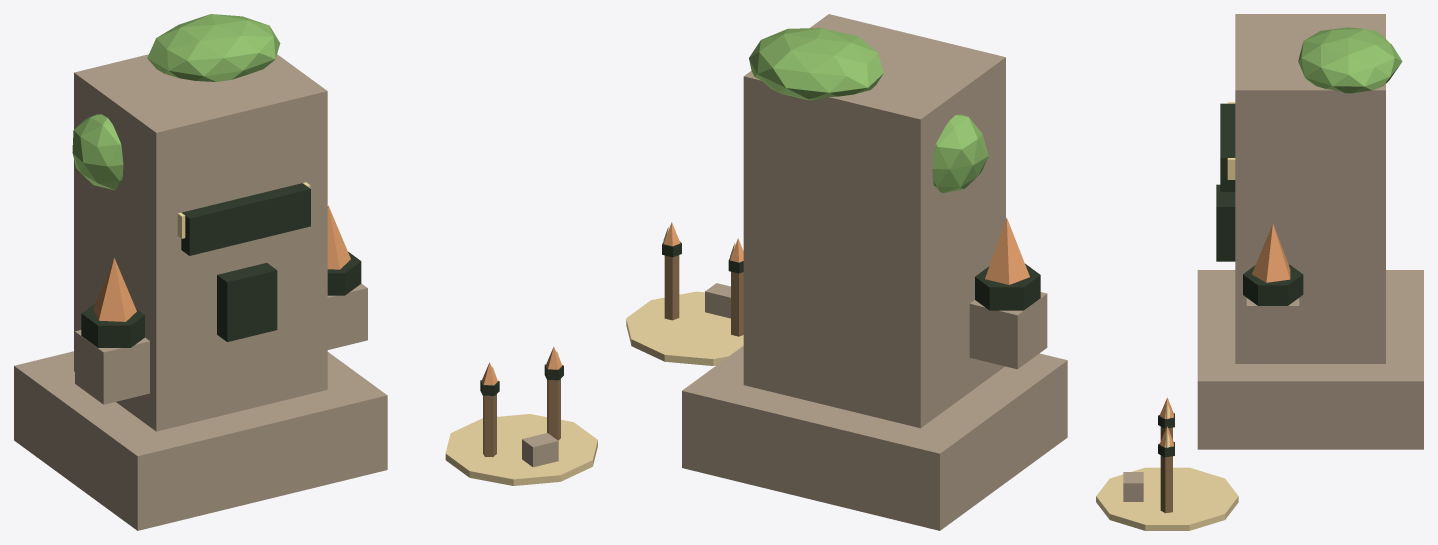
Rendered from jungle-landmark-s2b.glb.
3 views of the same model, side by side, from view 1: azimuth 30°, elevation 25°; view 2: azimuth 150°, elevation 25°; view 3: azimuth 270°, elevation 25° (orthographic). The views are drawn at different scales.
Parts seen in each view (by area): view 1: jungle-landmark-s2b; view 2: jungle-landmark-s2b; view 3: jungle-landmark-s2b.
Boxes of the visible parts, box(x1,y1,x2,y2) form: jungle-landmark-s2b: box(14, 14, 597, 530); jungle-landmark-s2b: box(626, 14, 1067, 530); jungle-landmark-s2b: box(1096, 14, 1423, 530).
Size of the model in its own units: 1.23 by 1.09 by 0.869.
